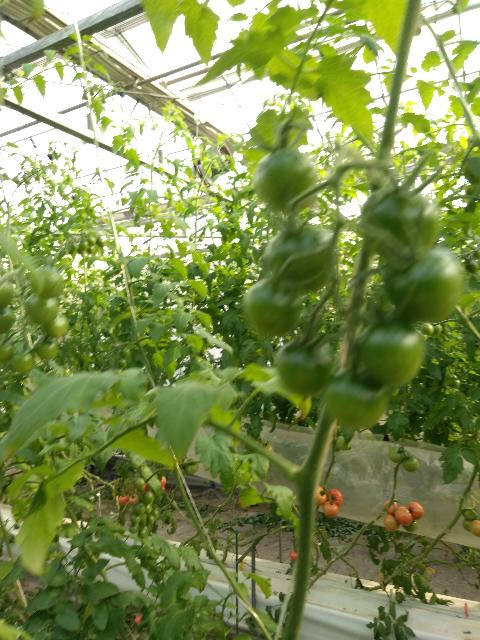l_fully_ripened: (326, 488, 343, 507), (289, 547, 299, 561)
l_green: (361, 185, 441, 263), (386, 249, 462, 323), (264, 224, 338, 293), (360, 323, 423, 390), (253, 149, 318, 213), (327, 366, 388, 432), (242, 275, 302, 335), (276, 337, 335, 398), (29, 265, 64, 298), (25, 293, 59, 325), (42, 314, 70, 337), (34, 338, 58, 361), (11, 353, 34, 373), (0, 307, 14, 335), (387, 446, 405, 463), (0, 342, 13, 363), (402, 457, 419, 473), (420, 322, 434, 335), (402, 521, 417, 532), (430, 322, 442, 334), (142, 492, 153, 504), (134, 503, 145, 515), (131, 514, 141, 524), (129, 524, 138, 533), (144, 504, 152, 514), (148, 514, 155, 524)
l_half_ripened: (394, 506, 413, 526), (408, 502, 424, 520), (384, 514, 400, 532), (314, 485, 327, 507), (323, 501, 339, 518), (384, 500, 398, 514), (470, 520, 480, 537), (118, 494, 129, 504)
